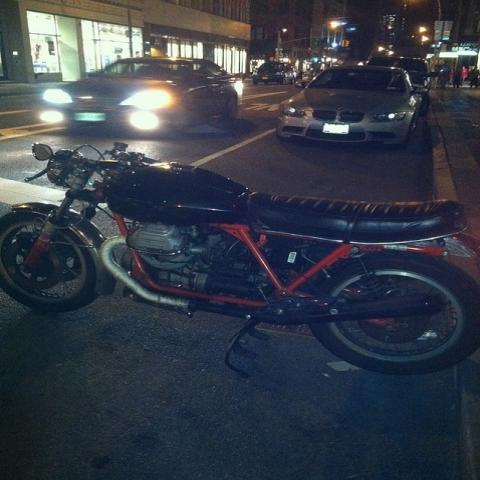car: (46, 54, 240, 136), (281, 65, 428, 148), (364, 55, 440, 92), (252, 61, 297, 86), (293, 80, 311, 88)
motorcycle: (0, 134, 477, 386)
